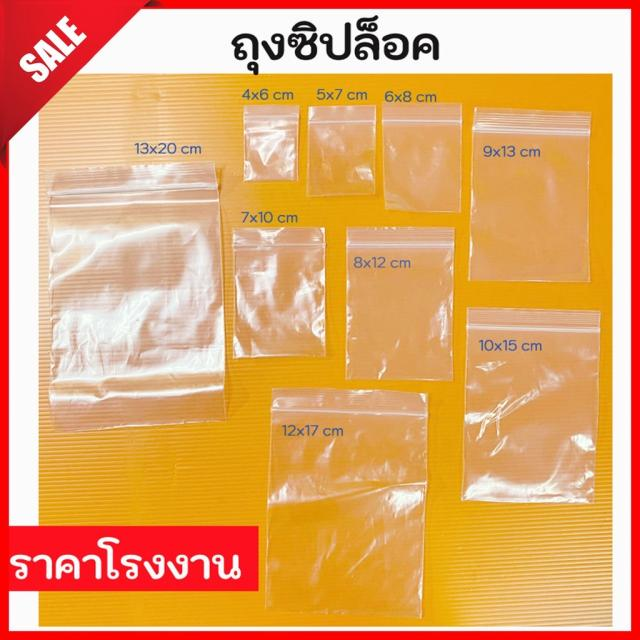Single-layer Plastic: (46, 162, 225, 431), (268, 390, 428, 617), (462, 308, 600, 503), (469, 108, 591, 281), (346, 228, 454, 380), (232, 228, 325, 357), (382, 102, 461, 212), (306, 105, 376, 196), (244, 105, 299, 181)
